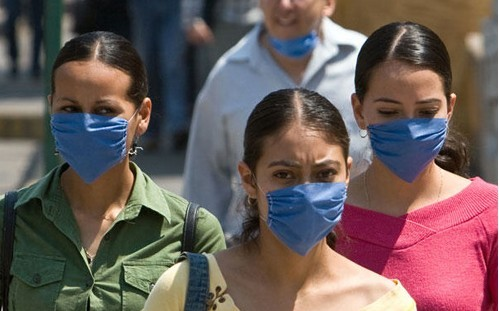face_mask: (263, 133, 342, 255), (50, 64, 127, 179), (367, 70, 444, 181), (259, 1, 319, 55)
